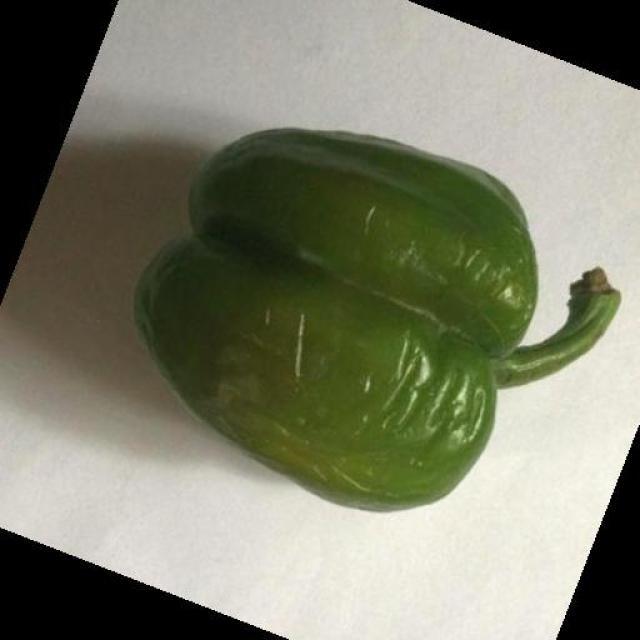Stale_Capsicum: (158, 117, 540, 485)
